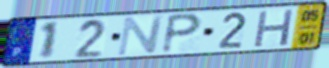1: (38, 20, 61, 61)
2: (72, 17, 109, 59), (217, 11, 249, 50)
H: (252, 7, 297, 49)
N: (115, 14, 166, 57)
P: (159, 12, 205, 55)
